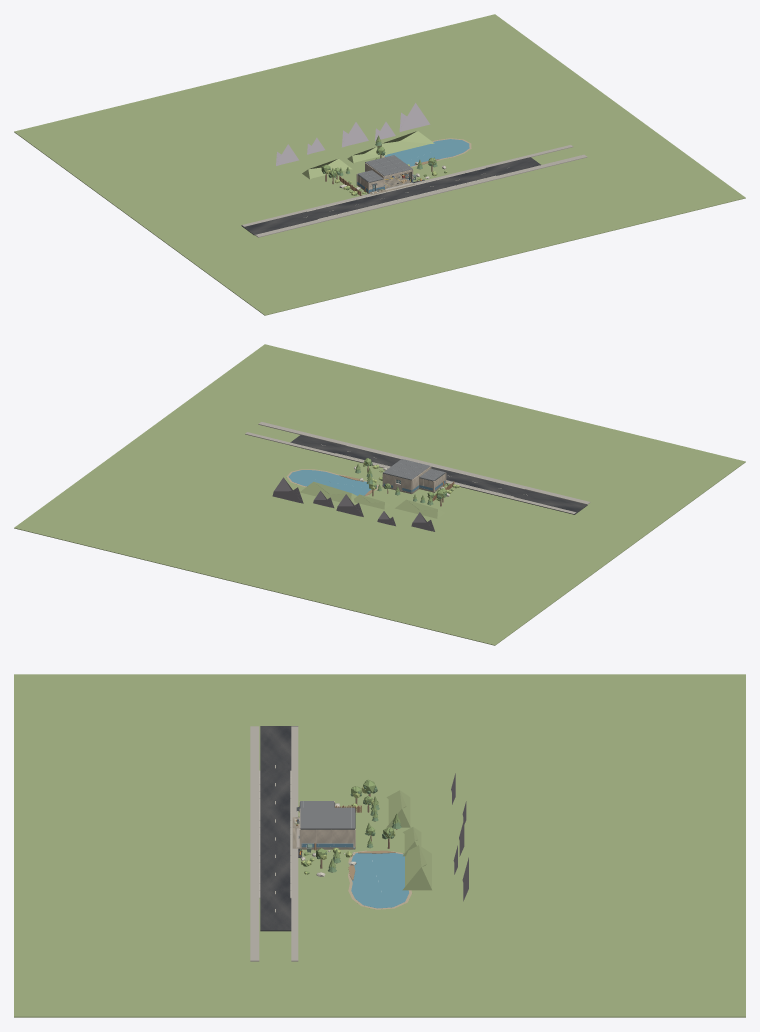
The model's file is Environment_OfficeGarage.fbx.
3 renders of one model, top to bottom at view 1: azimuth 30°, elevation 25°; view 2: azimuth 150°, elevation 25°; view 3: azimuth 270°, elevation 25°, orthographic. The views are drawn at different scales.
Visible parts, largest first — view 1: E00_continuous grassy site_World, EK_karsi kaldirim_World, E23_low polygon calm lake_World, EK_yakin kaldirim_World, E11_sloping terrain wedge.002_World, E01_asphalt strip.004_World, E01_asphalt strip.003_World, E01_asphalt strip.002_World, E01_asphalt strip_World, E01_asphalt strip.001_World, E12_faceted silhouette ridge.004_World; view 2: E00_continuous grassy site_World, EK_karsi kaldirim_World, E23_low polygon calm lake_World, EK_yakin kaldirim_World, E01_asphalt strip.004_World, E01_asphalt strip.003_World, E01_asphalt strip.002_World, E11_sloping terrain wedge.002_World; view 3: E00_continuous grassy site_World, E23_low polygon calm lake_World, EK_karsi kaldirim_World, EK_yakin kaldirim_World, E01_asphalt strip.003_World, E01_asphalt strip.004_World, E01_asphalt strip_World, E01_asphalt strip.001_World, E01_asphalt strip.002_World, E11_sloping terrain wedge.002_World, E11_sloping terrain wedge_World.
Boxes of the visible parts, bbox=[...] form: E00_continuous grassy site_World: bbox=[14, 14, 745, 315]; EK_karsi kaldirim_World: bbox=[255, 154, 587, 237]; E23_low polygon calm lake_World: bbox=[384, 139, 469, 166]; EK_yakin kaldirim_World: bbox=[242, 145, 573, 226]; E11_sloping terrain wedge.002_World: bbox=[377, 131, 434, 155]; E01_asphalt strip.004_World: bbox=[241, 213, 310, 235]; E01_asphalt strip.003_World: bbox=[474, 157, 540, 178]; E01_asphalt strip.002_World: bbox=[301, 199, 367, 220]; E01_asphalt strip_World: bbox=[359, 185, 425, 206]; E01_asphalt strip.001_World: bbox=[416, 171, 482, 192]; E12_faceted silhouette ridge.004_World: bbox=[399, 103, 430, 131]; E00_continuous grassy site_World: bbox=[14, 344, 745, 645]; EK_karsi kaldirim_World: bbox=[258, 422, 590, 504]; E23_low polygon calm lake_World: bbox=[288, 470, 376, 495]; EK_yakin kaldirim_World: bbox=[245, 432, 575, 513]; E01_asphalt strip.004_World: bbox=[517, 491, 587, 514]; E01_asphalt strip.003_World: bbox=[289, 435, 357, 458]; E01_asphalt strip.002_World: bbox=[460, 477, 529, 500]; E11_sloping terrain wedge.002_World: bbox=[300, 481, 356, 502]; E00_continuous grassy site_World: bbox=[14, 674, 745, 1017]; E23_low polygon calm lake_World: bbox=[351, 853, 408, 908]; EK_karsi kaldirim_World: bbox=[250, 726, 259, 961]; EK_yakin kaldirim_World: bbox=[291, 726, 298, 961]; E01_asphalt strip.003_World: bbox=[260, 889, 291, 931]; E01_asphalt strip.004_World: bbox=[260, 726, 297, 766]; E01_asphalt strip_World: bbox=[260, 807, 290, 848]; E01_asphalt strip.001_World: bbox=[260, 848, 290, 889]; E01_asphalt strip.002_World: bbox=[260, 767, 291, 807]; E11_sloping terrain wedge.002_World: bbox=[402, 845, 431, 890]; E11_sloping terrain wedge_World: bbox=[386, 790, 410, 827].
Bounding box in the file's own units: 155 × 7.94 × 140.
